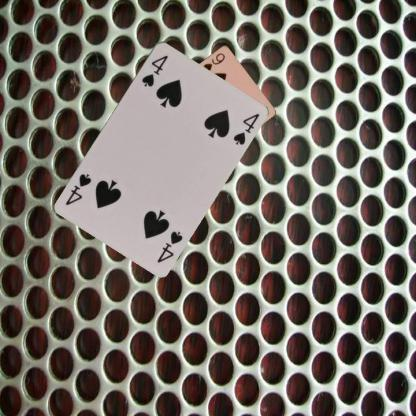4s: (139, 52, 169, 88), (154, 228, 184, 264)
9s: (201, 51, 228, 73)
